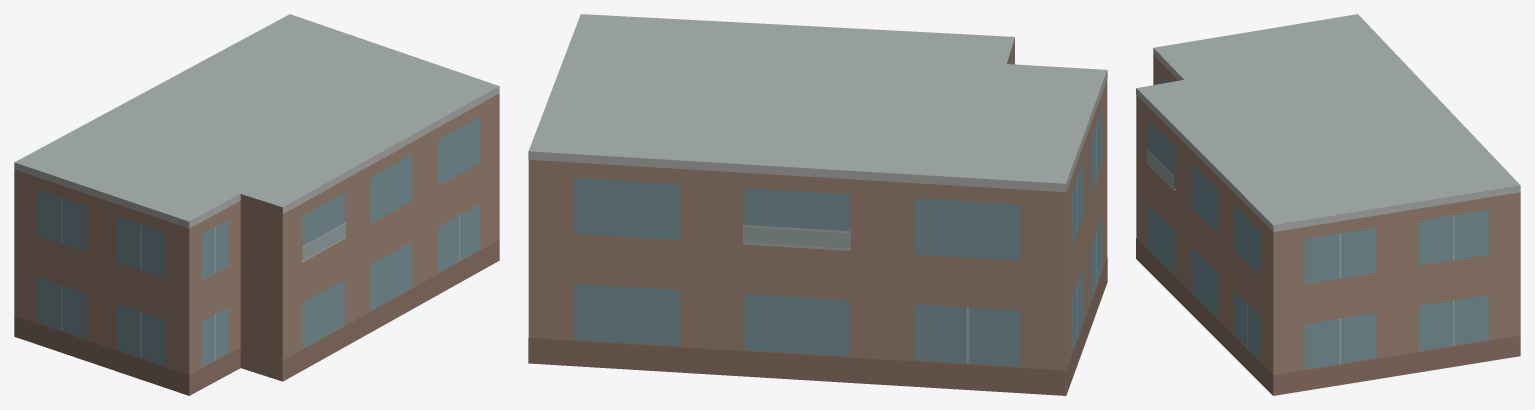
The model's file is survey-upis-32946228.glb.
3 views of the same model, side by side, from view 1: azimuth 30°, elevation 25°; view 2: azimuth 150°, elevation 25°; view 3: azimuth 270°, elevation 25° (orthographic). The views are drawn at different scales.
Visible parts, largest first — view 1: survey-upis-32946228.tmp; view 2: survey-upis-32946228.tmp; view 3: survey-upis-32946228.tmp.
Boxes of the visible parts, x1,y1,x2,y2 form: survey-upis-32946228.tmp: (14,14,499,395); survey-upis-32946228.tmp: (528,14,1107,395); survey-upis-32946228.tmp: (1136,14,1520,395).
Bounding box in the file's own units: 16.21 × 6.1 × 12.47.
